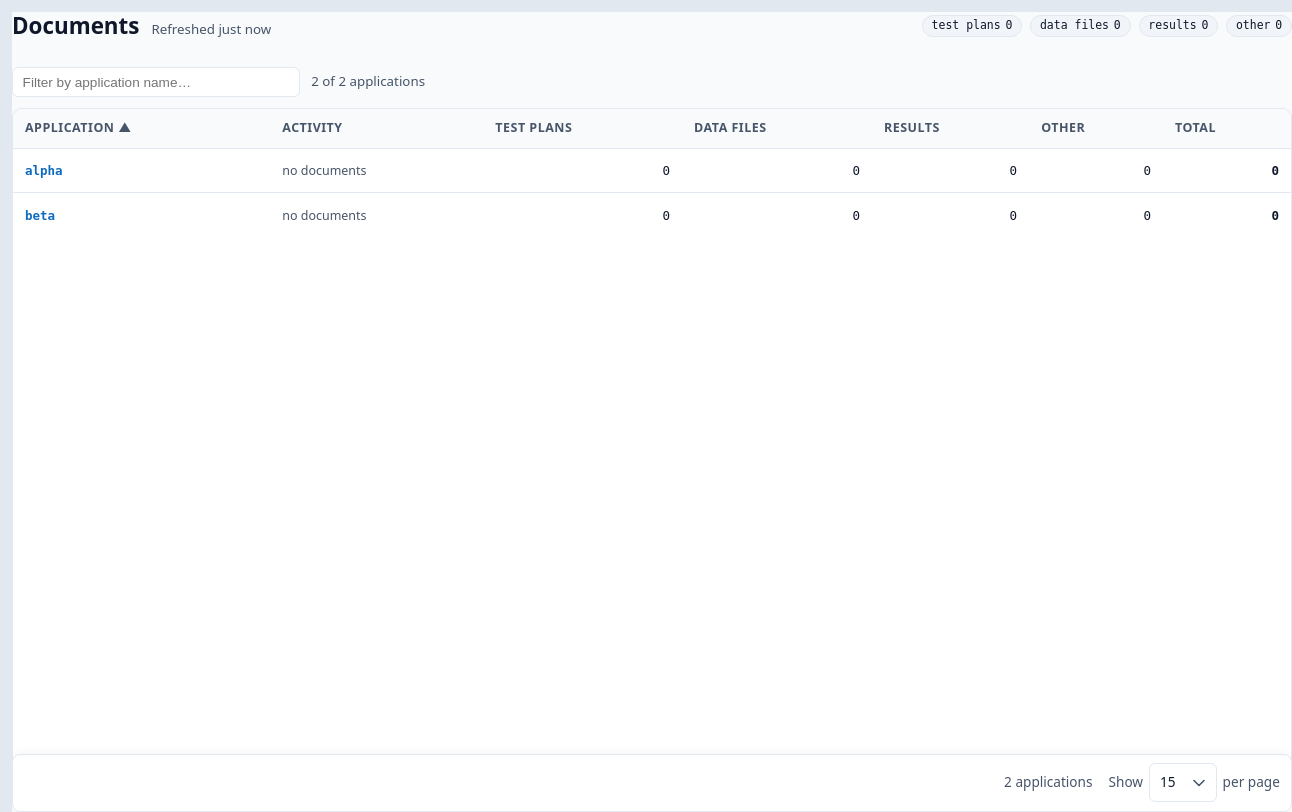
DocumentsListPage — Phase IA-Documents › filters apps by name substring
The image size is (1292, 812).
expect the link "alpha" is shown: met, box [25, 163, 63, 178]
Type "bet" into the search field named "Filter applications by name" at (156, 82), box [12, 67, 300, 97]
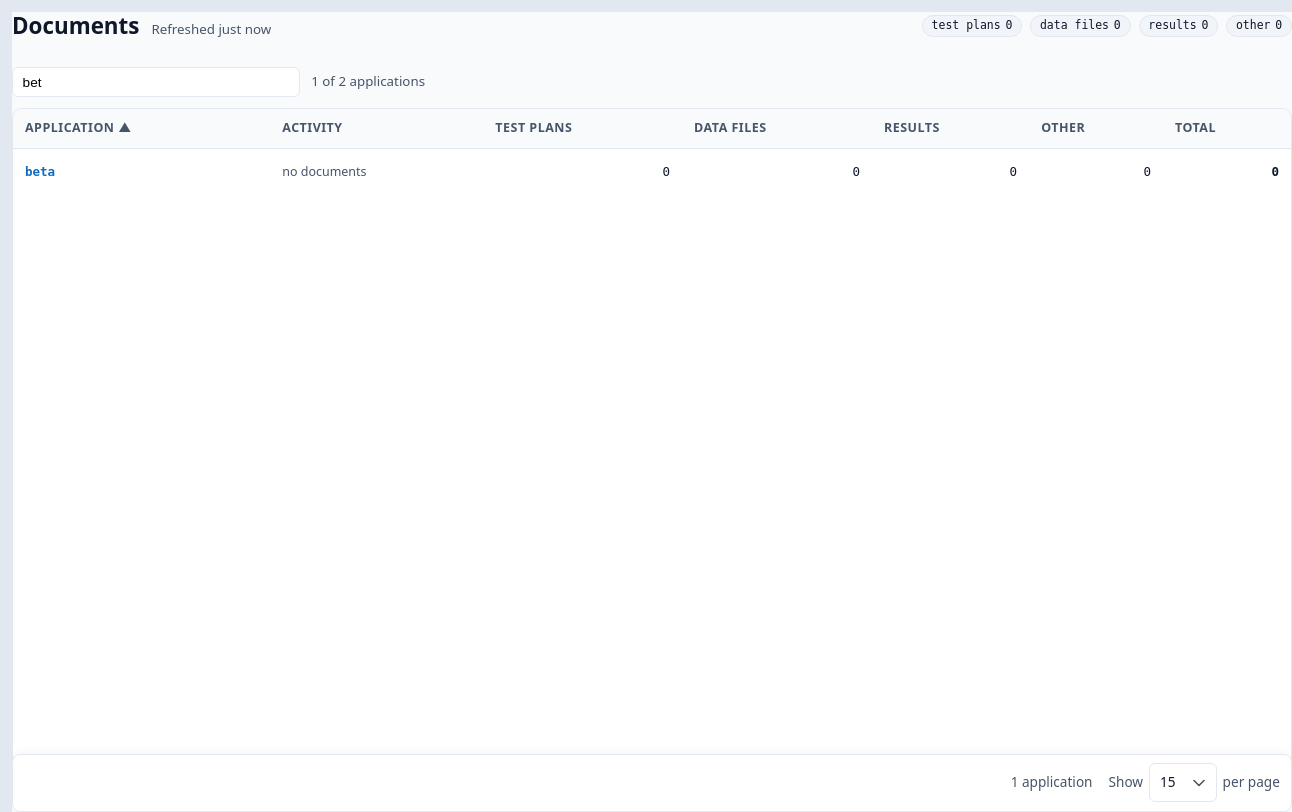
expect the link "beta" is shown: met, box [25, 164, 55, 179]
expect the link "alpha" is gone: met
